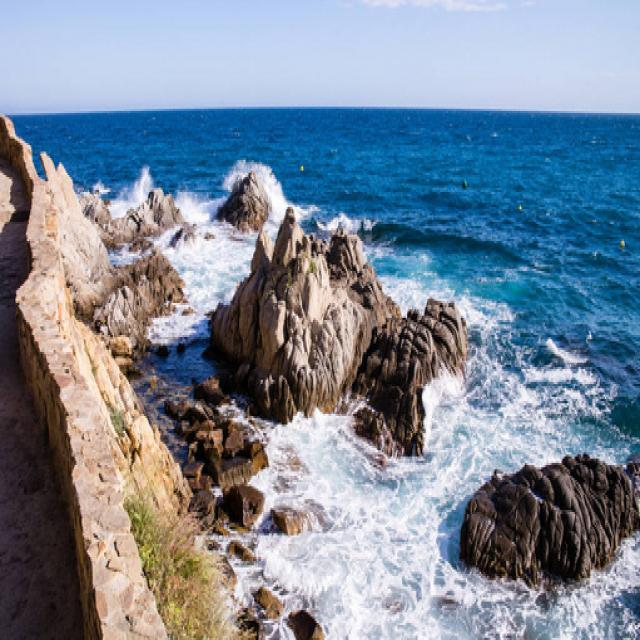reef: (204, 152, 476, 436), (473, 456, 640, 603)
